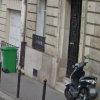Motorcycle: (55, 59, 100, 100)
